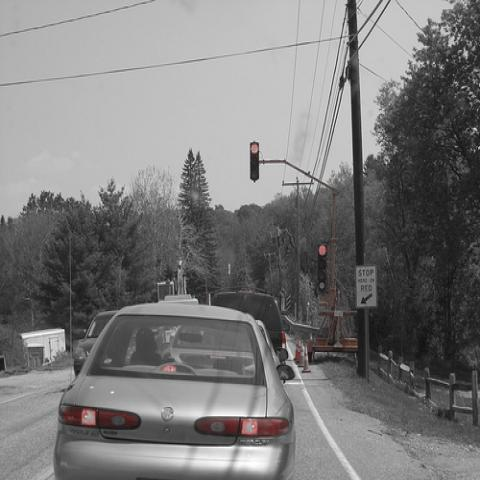car: (52, 305, 296, 475), (212, 292, 288, 362), (73, 309, 120, 378), (255, 320, 289, 366)
